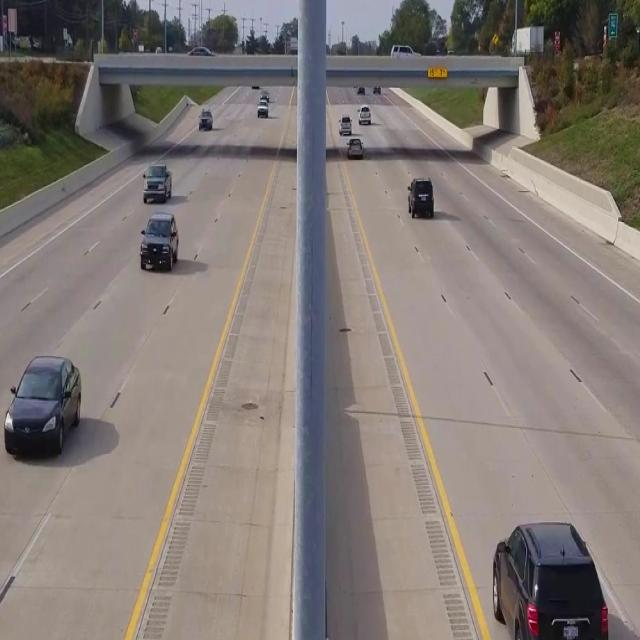car: (492, 519, 609, 640), (4, 354, 82, 456), (139, 213, 178, 270), (142, 164, 171, 202), (407, 178, 433, 218), (347, 136, 363, 158), (199, 108, 212, 129), (339, 116, 351, 136), (358, 105, 370, 124)
